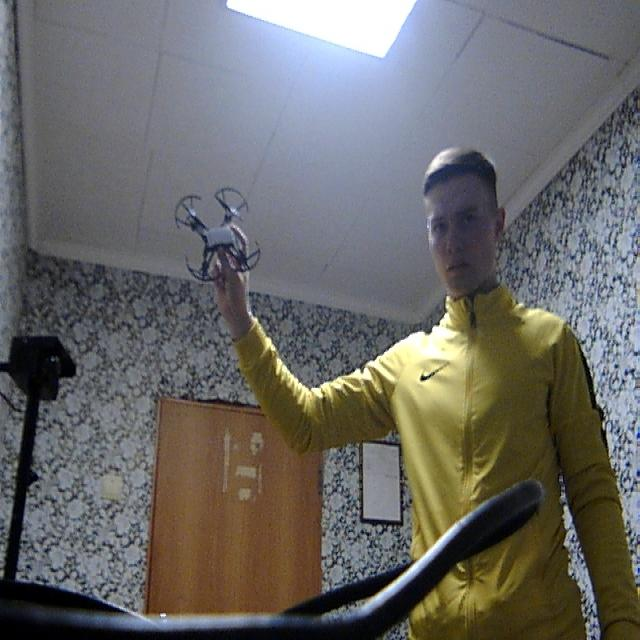drone: (169, 162, 272, 296)
